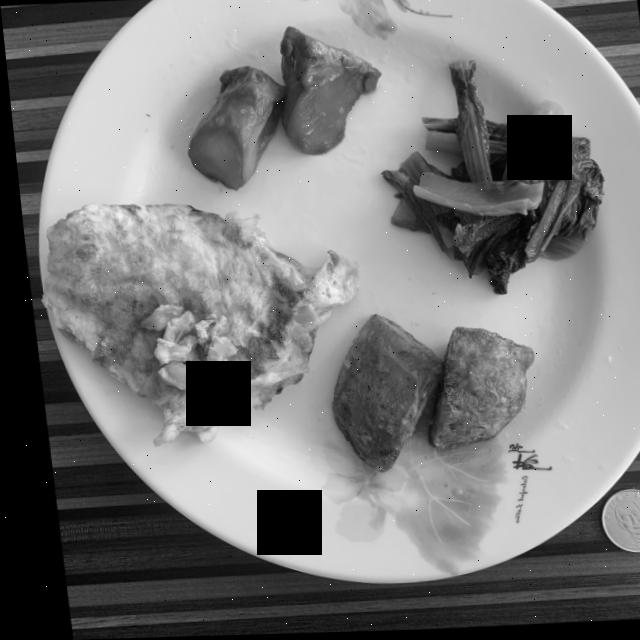coin: (588, 493, 640, 556)
fried potato: (322, 315, 525, 474)
mustard greens: (378, 63, 598, 297)
